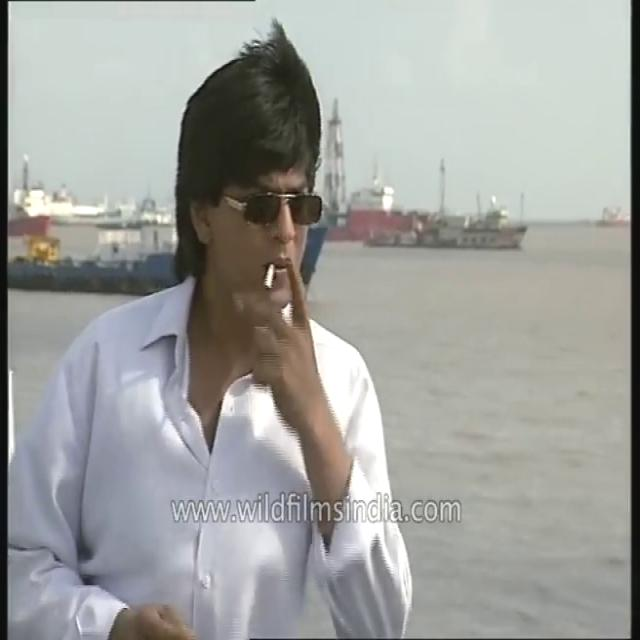Smooking: (260, 261, 284, 298)
